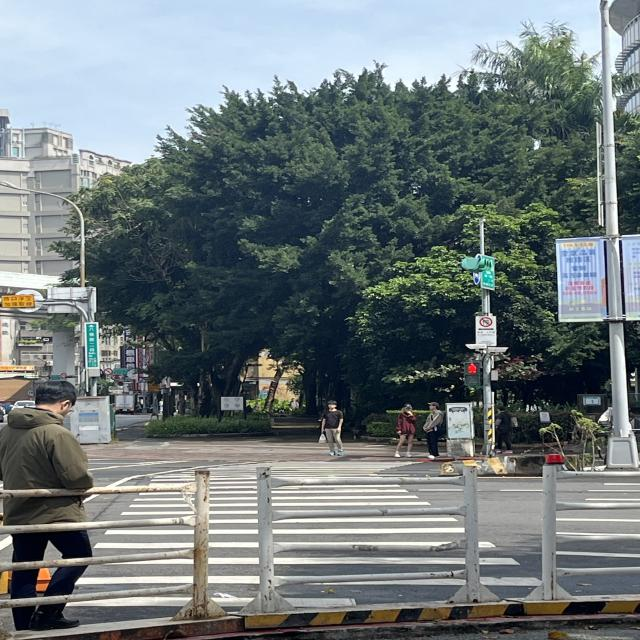red light: (461, 359, 480, 390)
